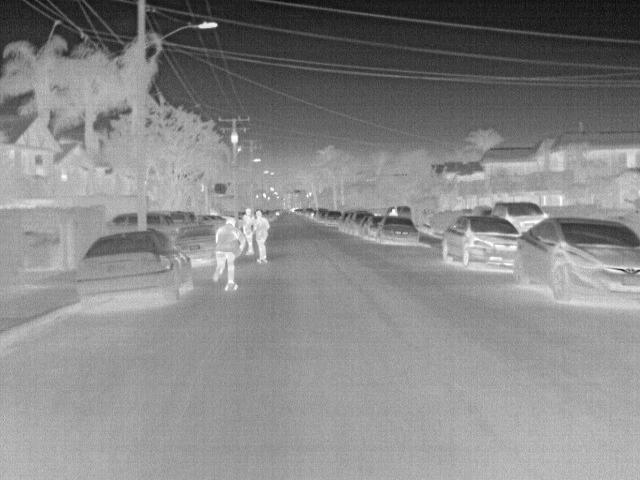car: (515, 218, 640, 306), (73, 226, 198, 306), (442, 213, 522, 269), (174, 222, 220, 264), (489, 200, 548, 230), (376, 216, 424, 244), (146, 211, 175, 243), (105, 211, 135, 232), (351, 212, 371, 236), (339, 210, 360, 230), (366, 216, 383, 238), (357, 215, 372, 236), (324, 210, 343, 225), (317, 210, 332, 223)
person: (212, 218, 243, 283), (253, 208, 272, 258), (243, 206, 255, 253), (387, 206, 401, 218)
